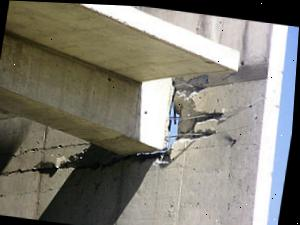spalling: (133, 73, 224, 164)
